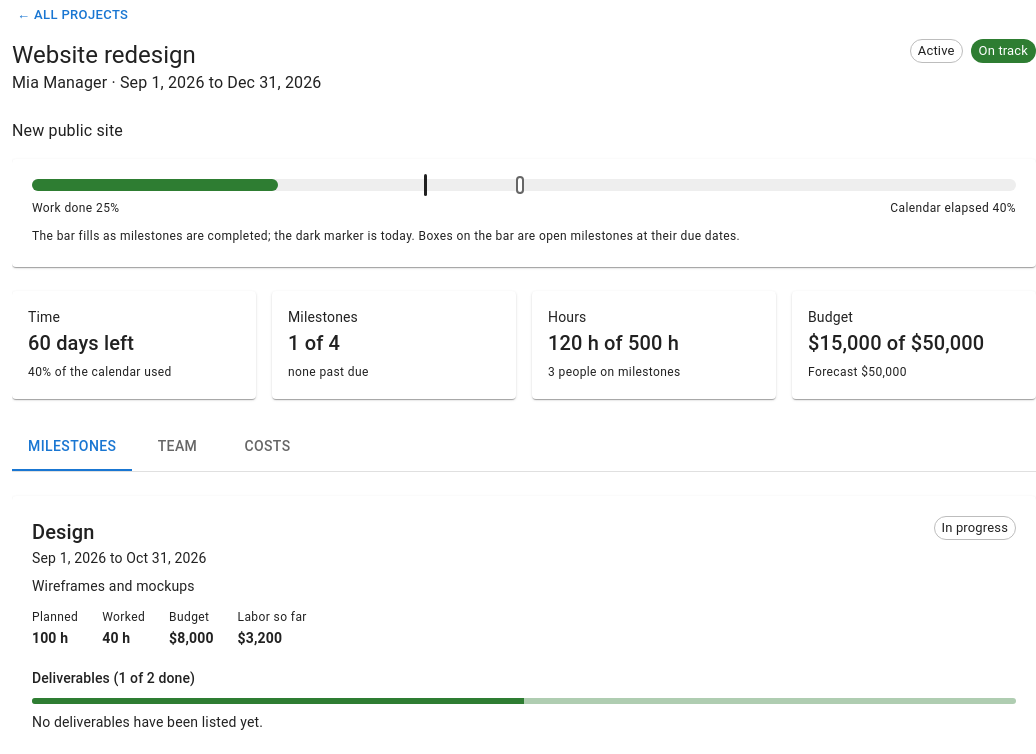
Test: Project detail: what everyone sees › shows who works on the project in the Team tab
Click the tab "Team": (178, 447) [132, 423, 222, 471]
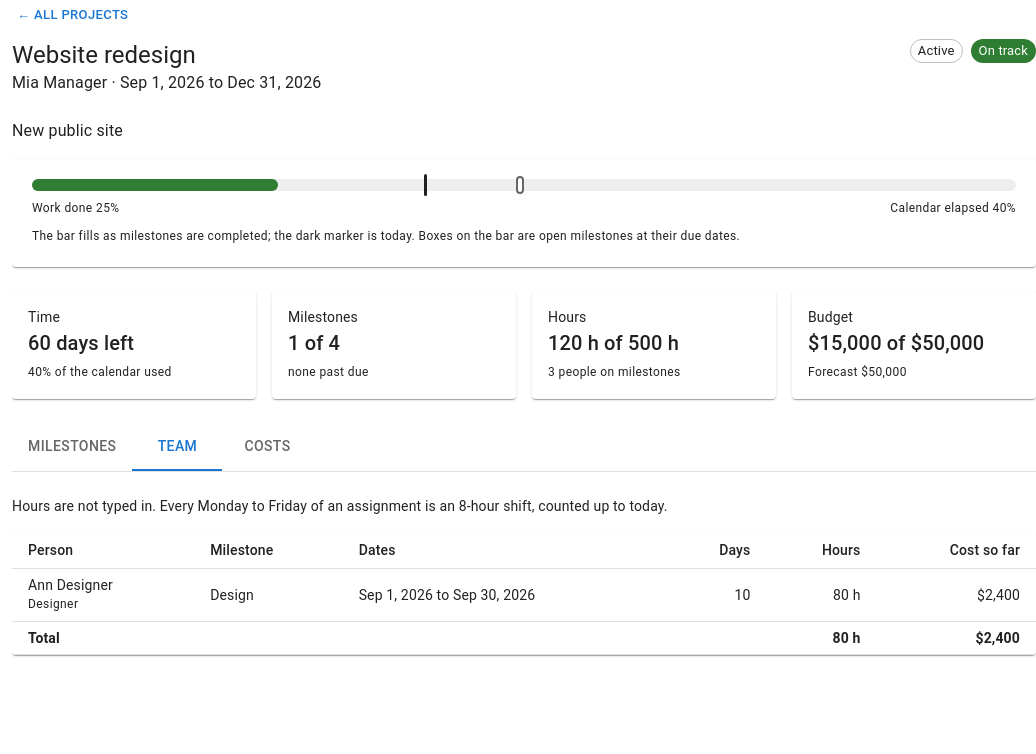
Now the text "Ann Designer" is shown, box [28, 577, 113, 593]
Now the text "Ann Designer" shows "Sep 1, 2026 to Sep 30, 2026", box [359, 587, 535, 603]
Now the text "Ann Designer" shows "80 h", box [833, 587, 860, 603]
